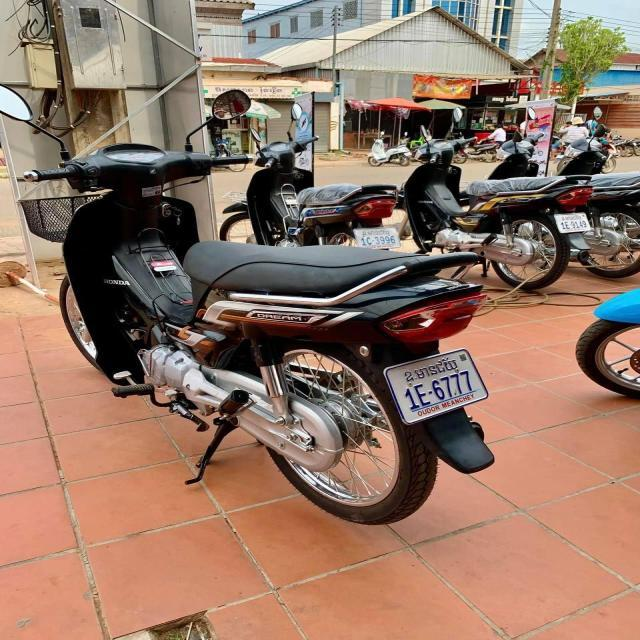Oudor_Meanchey: (405, 357, 458, 382), (362, 229, 390, 236), (562, 216, 582, 221)
